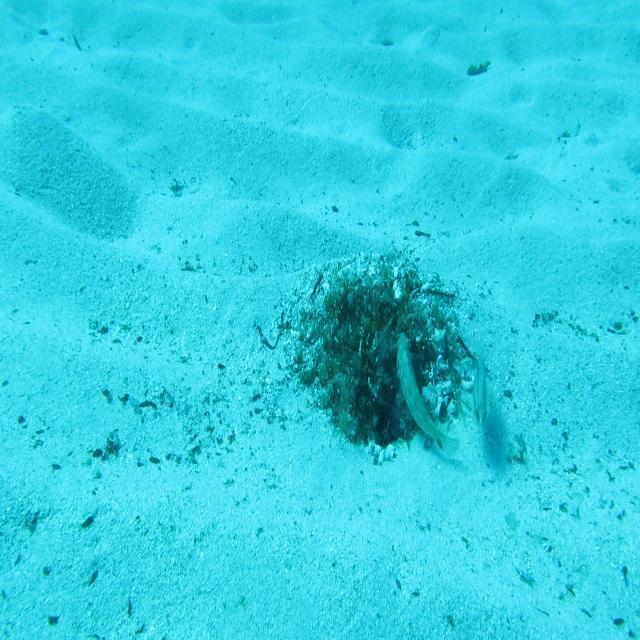BEND: (393, 326, 462, 462)
core_nest: (348, 299, 388, 341)
female: (472, 328, 490, 431)
nest: (274, 236, 480, 475)
vegetation: (466, 58, 492, 82)
